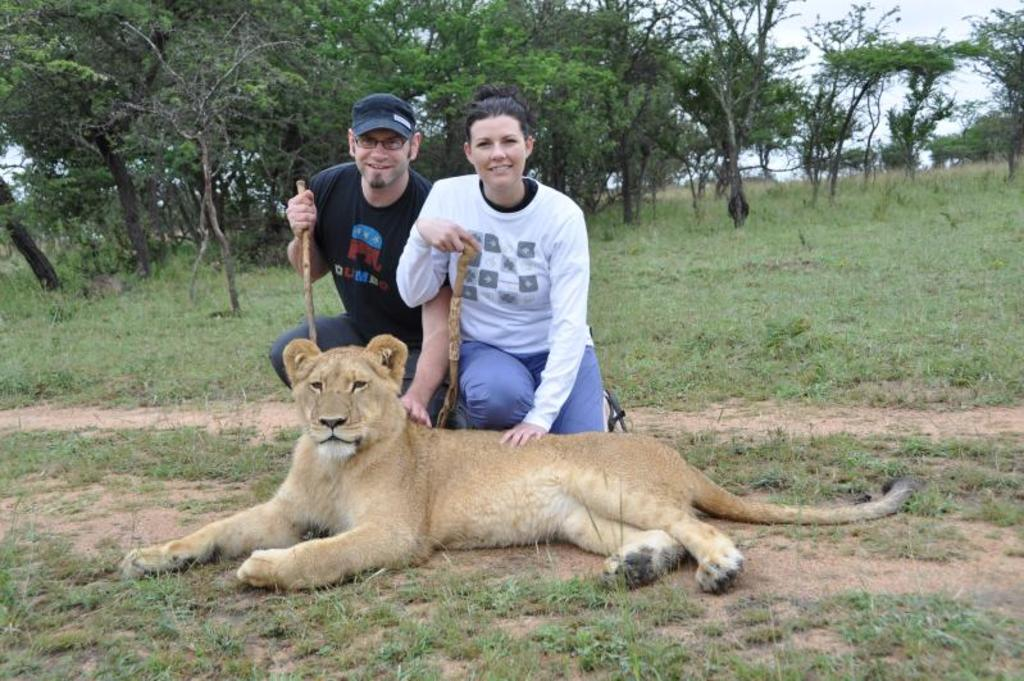person: (394, 87, 612, 446)
